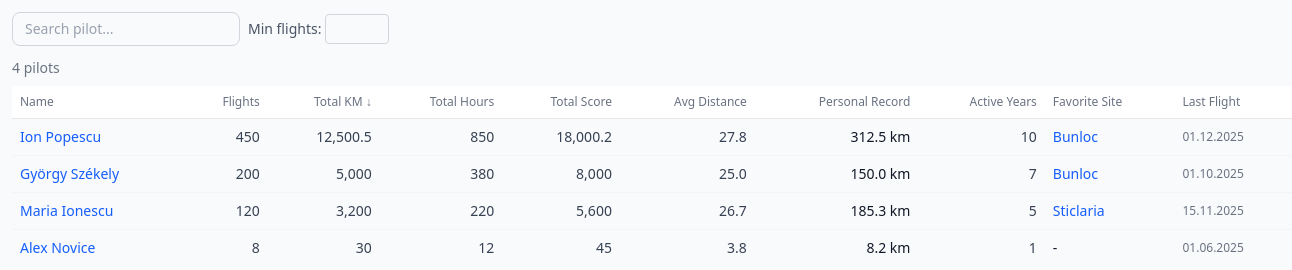
Test case: PilotsTable › filters pilots by username search
The width and height of the screenshot is (1292, 270).
Step 1. Type "maria.ionescu" into the field with placeholder "Search pilot..." → (126, 29), box left=12, top=12, right=240, bottom=46
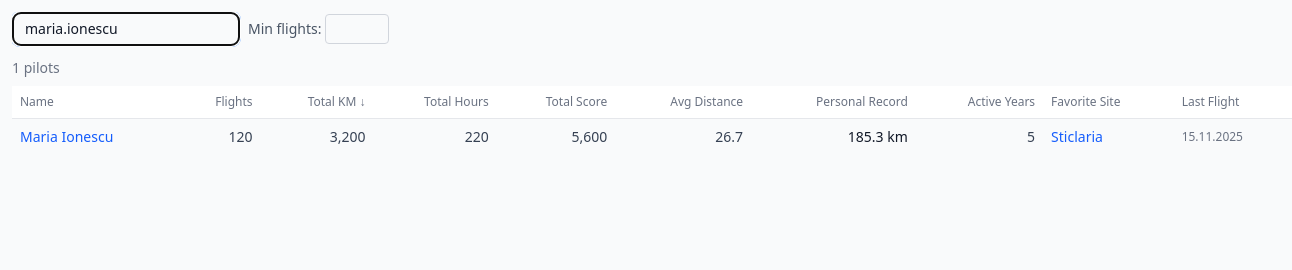
Expected: the link "Maria Ionescu" is shown, left=20, top=127, right=113, bottom=146
Result: the link "Ion Popescu" is gone
